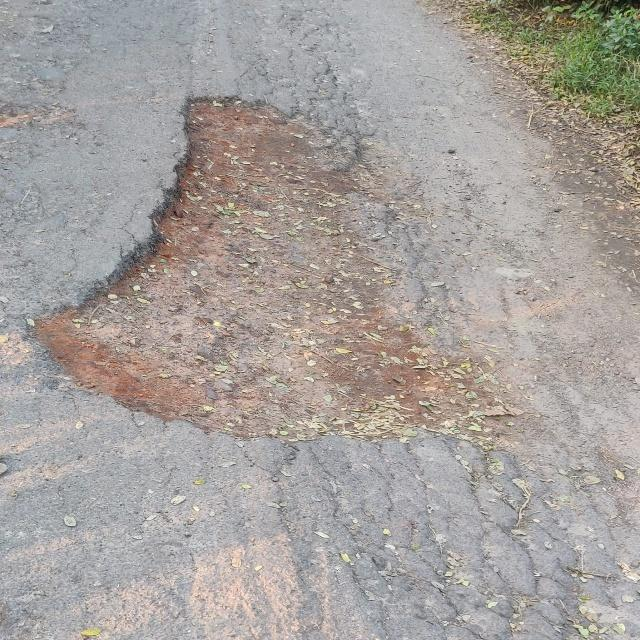Surface Erosion: (0, 10, 640, 631)
